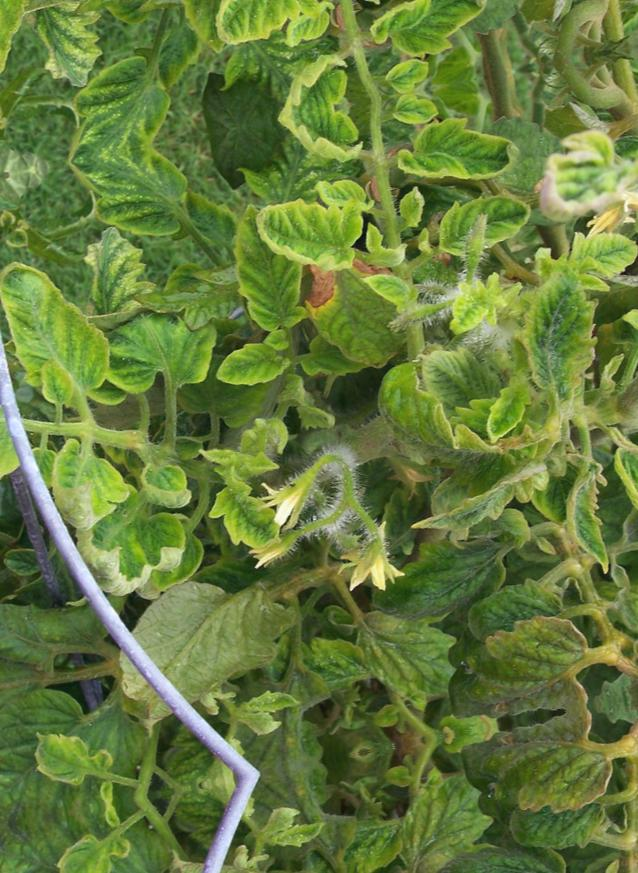Tomato leaf yellow virus: (500, 242, 635, 440), (0, 246, 125, 423), (244, 166, 400, 299), (217, 167, 312, 345), (407, 338, 525, 462), (29, 417, 135, 544), (387, 110, 528, 203), (25, 708, 148, 808), (251, 103, 369, 181), (0, 359, 60, 510), (427, 189, 542, 264), (205, 327, 316, 403), (536, 220, 638, 300), (209, 457, 288, 559), (608, 417, 638, 571)
